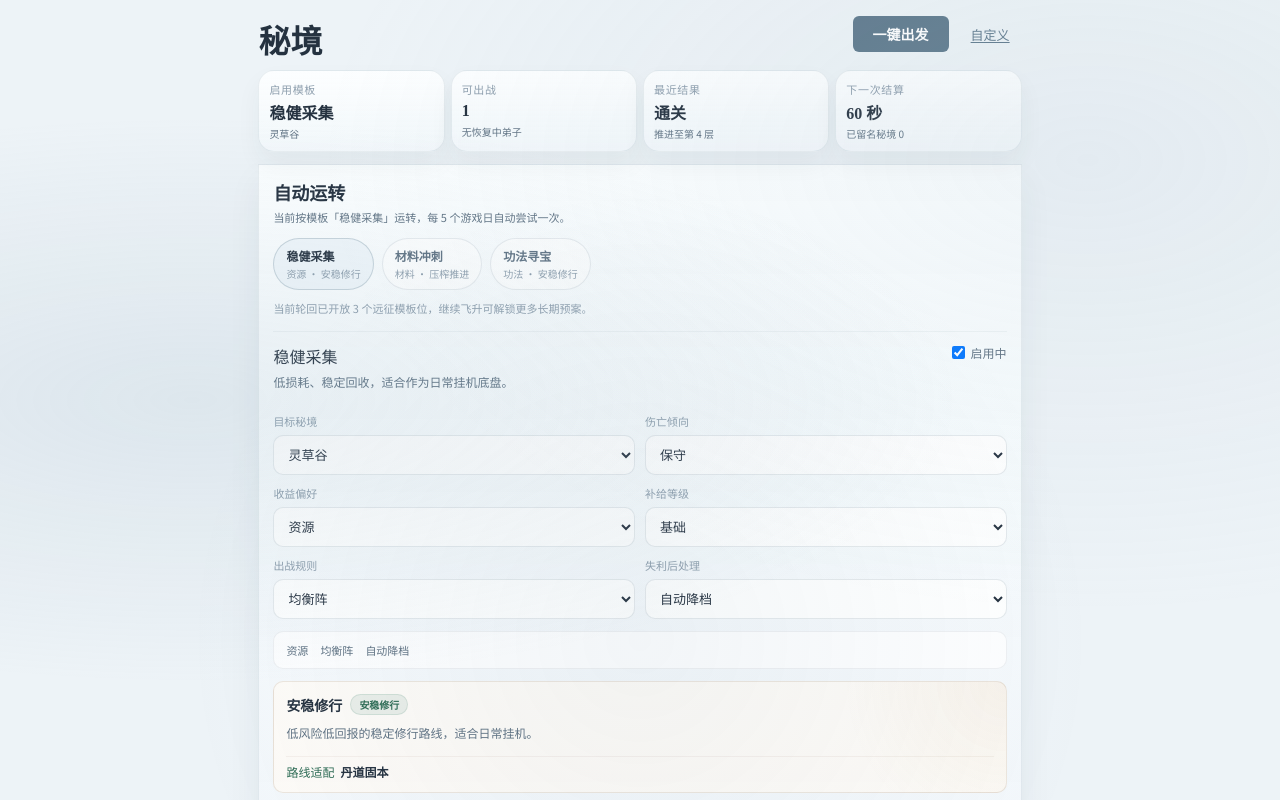
Test: AdventurePage › opens team builder via custom link
What coordinates should you click on to do the following:
click the button "自定义"
I would click on:
 (990, 34)
Its box is x1=959 y1=16 x2=1022 y2=52.
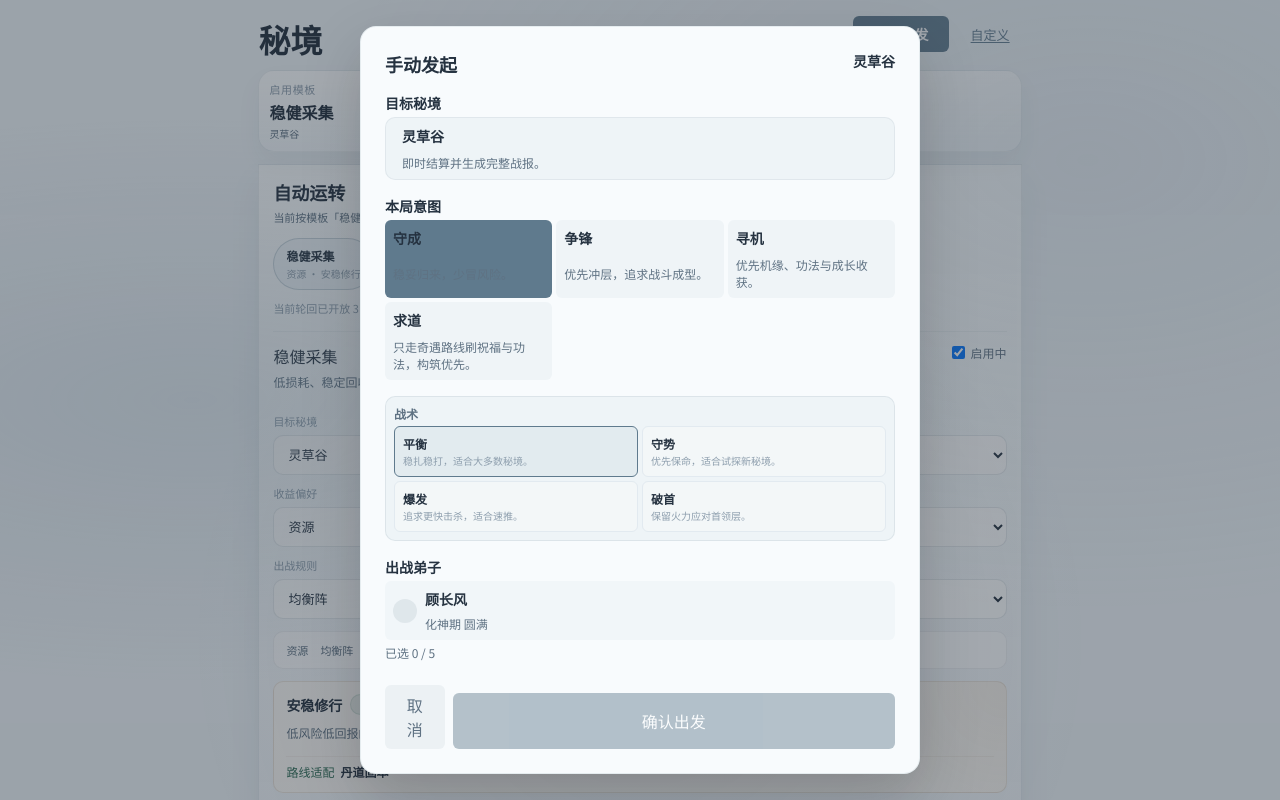
expect the text "本局意图" is shown: met, box x1=385 y1=200 x2=441 y2=215
expect the text "战术" is shown: met, box x1=394 y1=405 x2=418 y2=422
expect the text "出战弟子" is shown: met, box x1=385 y1=561 x2=441 y2=576
